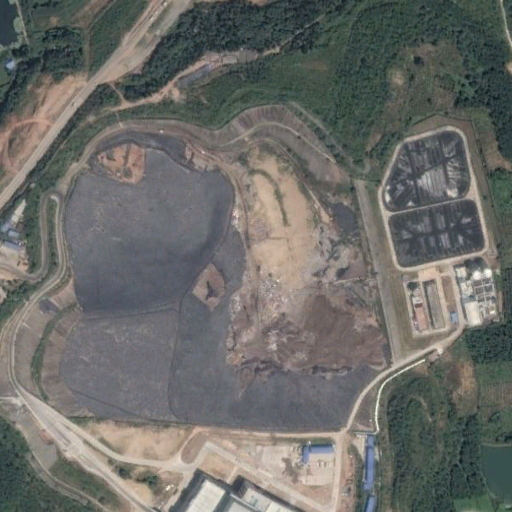lf: (8, 101, 395, 434)
